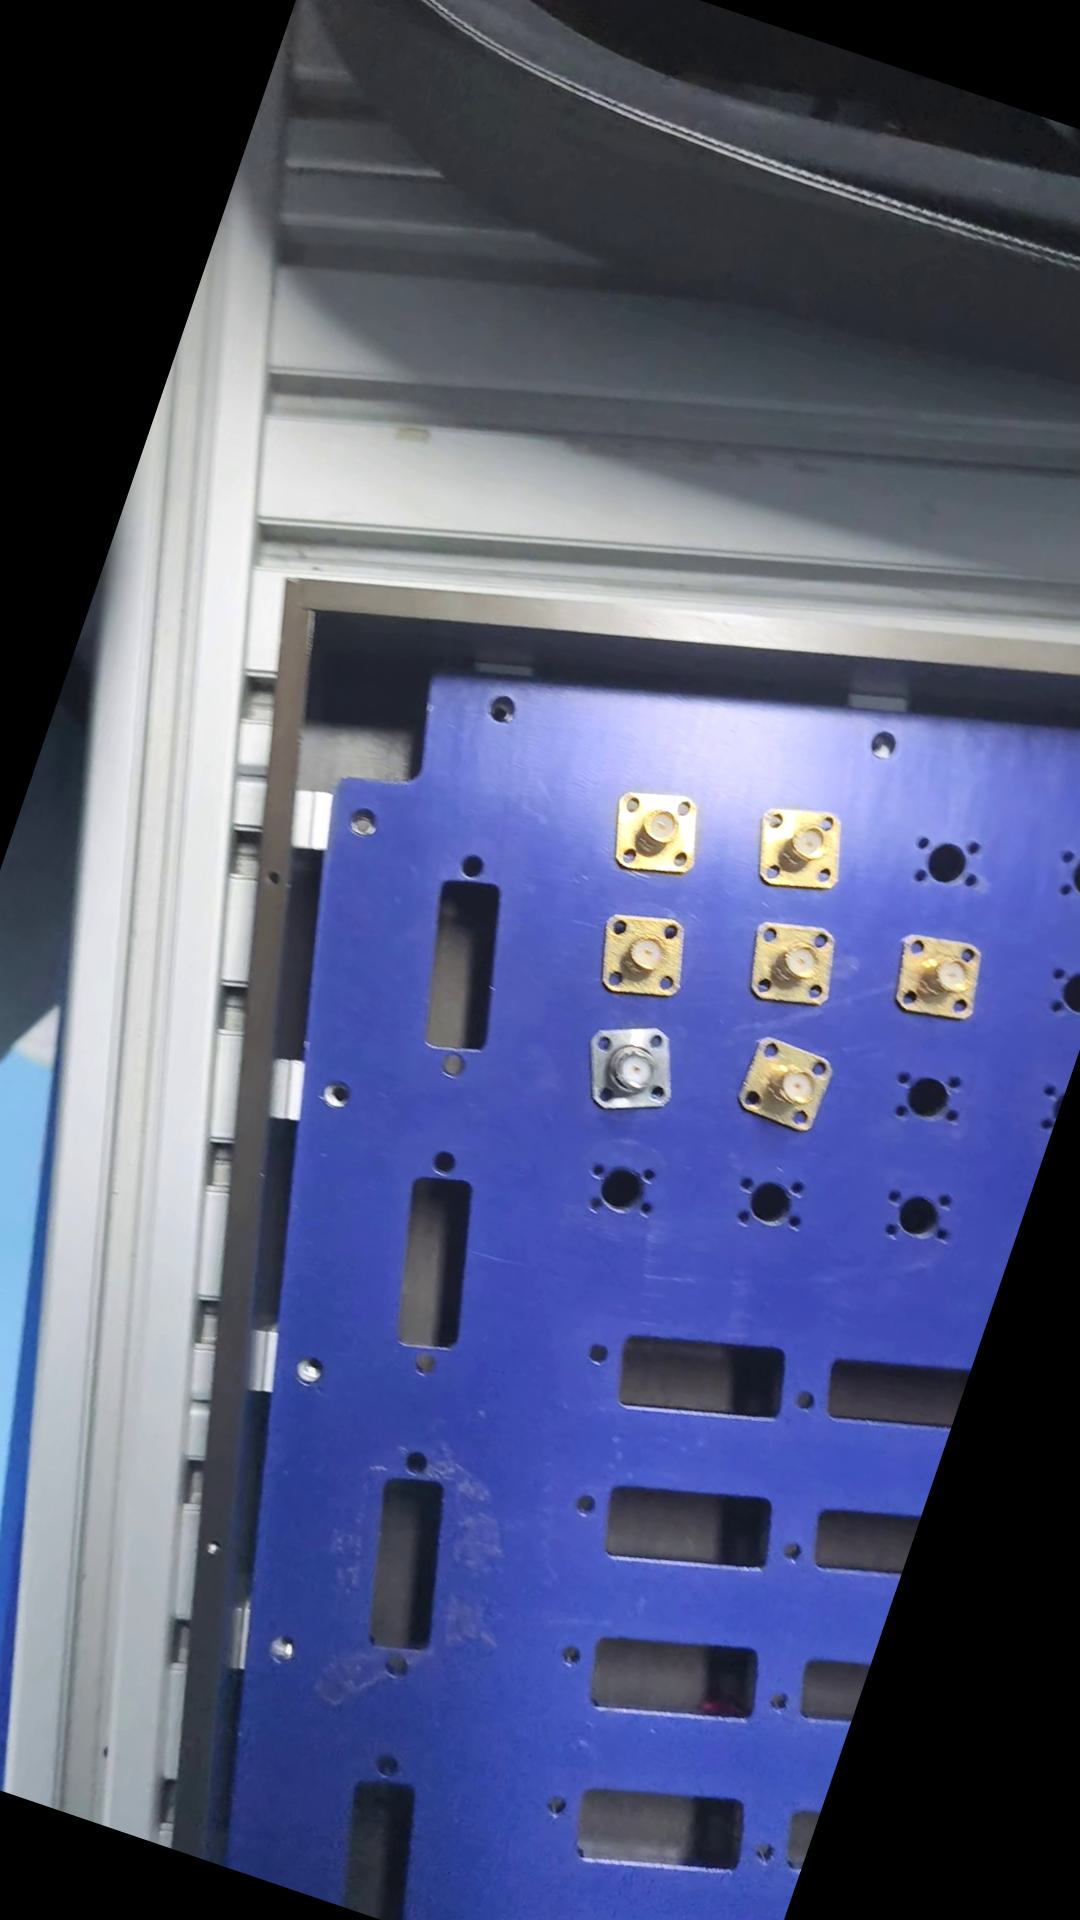SMA: (595, 775, 723, 894), (728, 1025, 847, 1146), (571, 1011, 690, 1129), (738, 906, 855, 1023), (583, 901, 702, 1014), (746, 793, 860, 907), (884, 923, 996, 1031)
